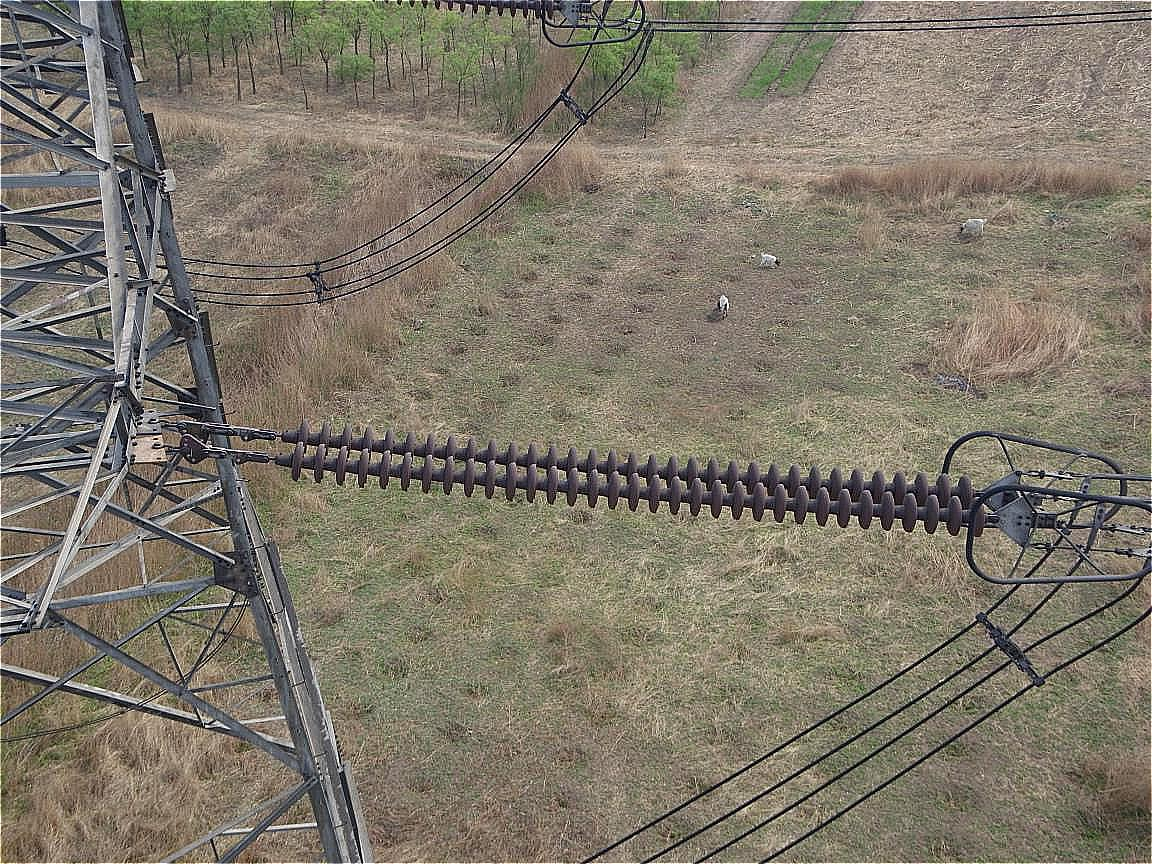insultor1: (257, 409, 1006, 546)
